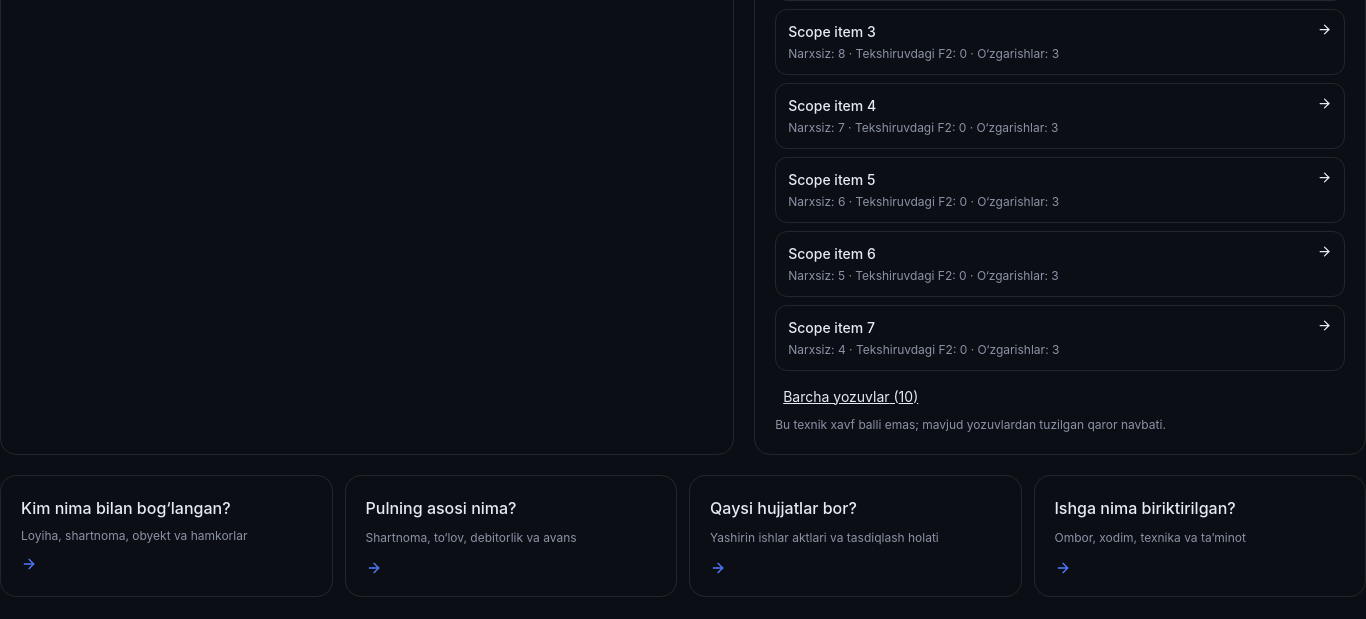
executive cockpit drilldown › shows eight attention objects first, with review before unpriced counts and explicit expansion
(page scrolled)
Expected: the button "Scope item 9" is not shown
What coordinates should you click on to do the following:
click the button "Barcha yozuvlar (10)"
I would click on:
 (851, 396)
Its box is [775,378,926,414].
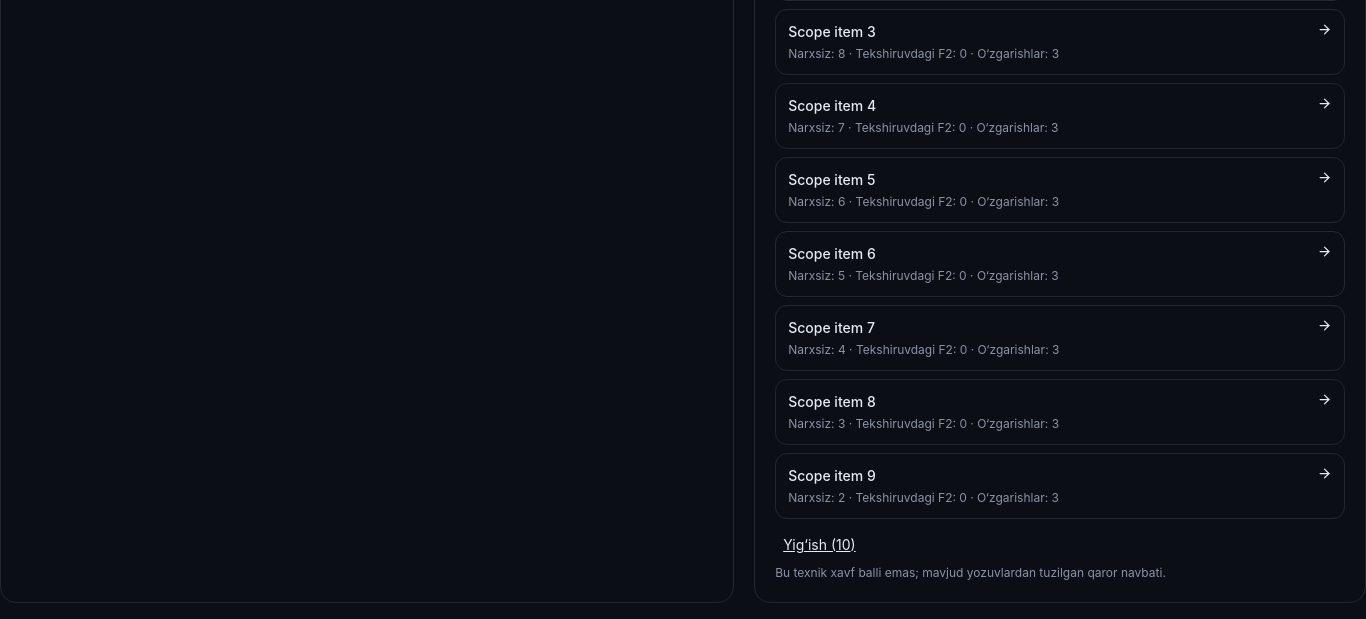
Result: the button "Scope item 9" is shown at [775,452,1345,518]
Result: the button "Yig‘ish (10)" is expanded at [775,526,864,562]
